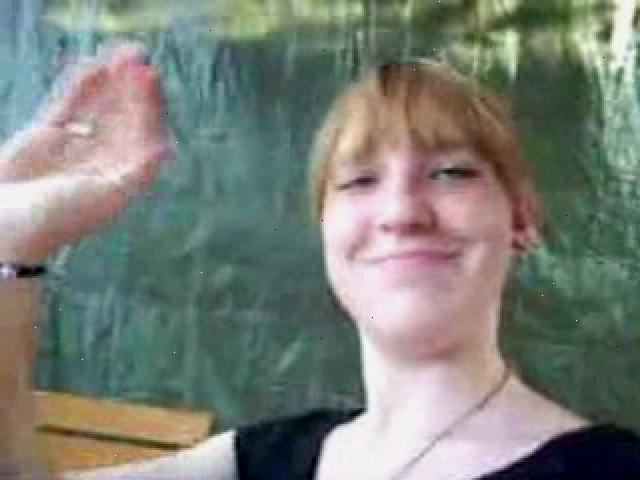T: (10, 41, 638, 476)
